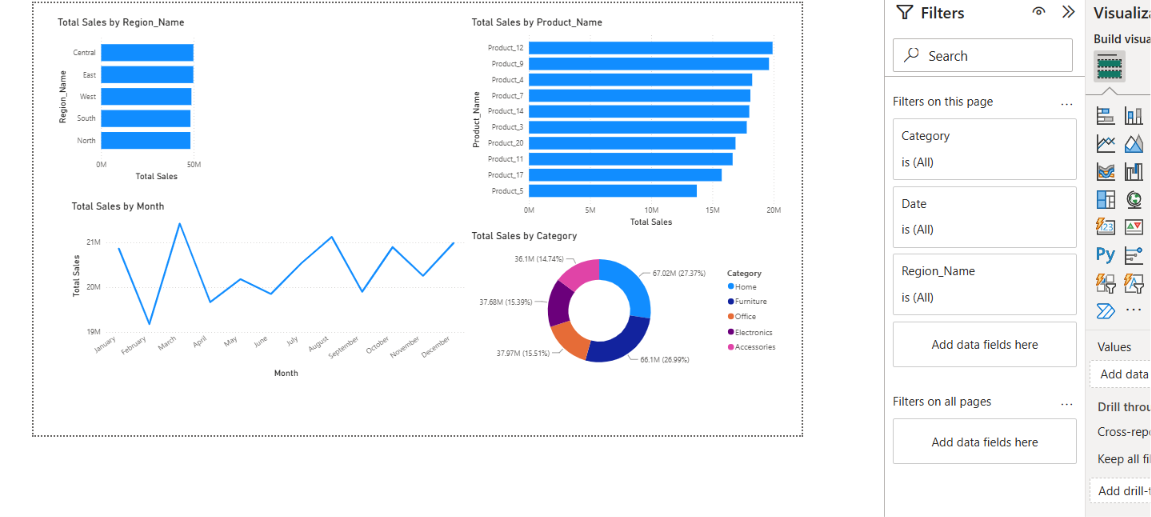

The dashboard page shown, as its layout file describes it:
{"tool":"powerbi","page":{"name":"Visualization","canvas":[1280,720],"ordinal":1},"visuals":[{"type":"clusteredBarChart","fields":{"Category":["Regions.Region_Name"],"Y":["Sales.Total Sales"]},"box":[11.7,0,671.7,331.7],"z":0},{"type":"lineChart","fields":{"Category":["Sales.Date.Variation.Date Hierarchy.Month"],"Y":["Sales.Total Sales"]},"box":[0,331.7,725,388.3],"z":1000},{"type":"clusteredBarChart","fields":{"Category":["Products.Product_Name"],"Y":["Sales.Total Sales"]},"box":[725,11.7,538.3,365],"z":2000},{"type":"donutChart","fields":{"Y":["Sales.Total Sales"],"Category":["Products.Category"]},"box":[740,376.7,540,330],"z":3000}]}

Visuals, with their boxes on the page's 1280x720 design canvas (x1, y1, x2, y2). These are canvas units, not pixel positions in the 1151x517 screenshot, which may show the page scaled, cropped or inside an application window:
clusteredBarChart - Regions.Region_Name x Sales.Total Sales: (x1=12, y1=0, x2=683, y2=332)
lineChart - Sales.Date.Variation.Date Hierarchy.Month x Sales.Total Sales: (x1=0, y1=332, x2=725, y2=720)
clusteredBarChart - Products.Product_Name x Sales.Total Sales: (x1=725, y1=12, x2=1263, y2=377)
donutChart - Sales.Total Sales x Products.Category: (x1=740, y1=377, x2=1280, y2=707)
